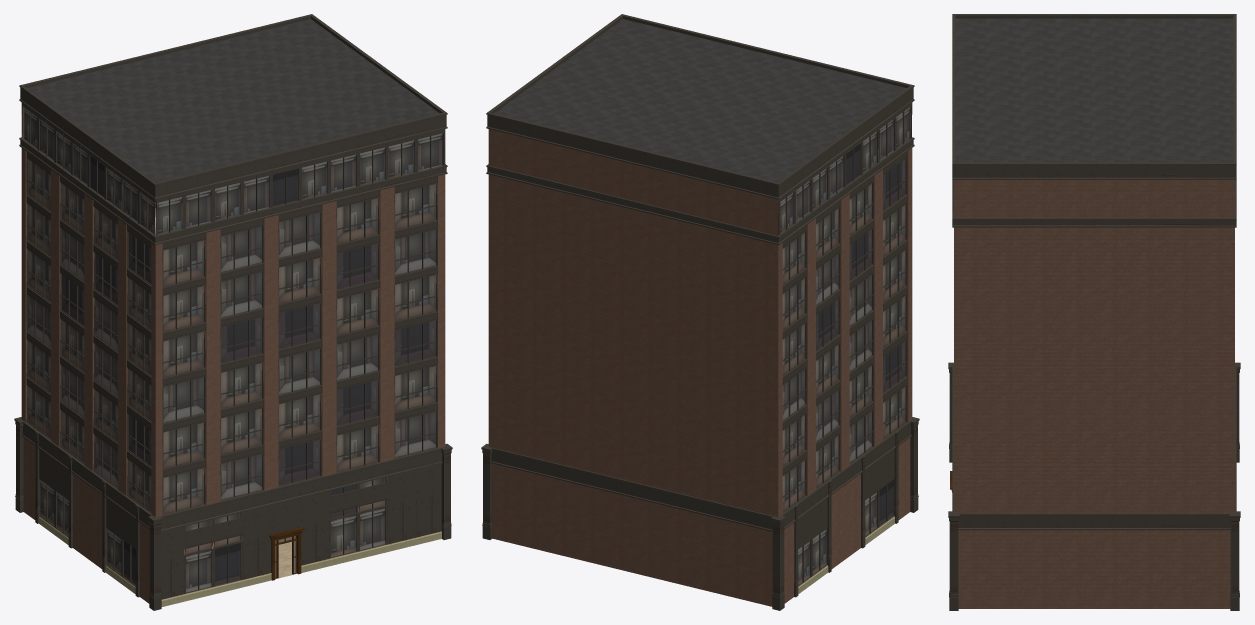
Rendered from building_large_2.glb.
The picture shows the model from 3 angles, left to right: view 1: azimuth 30°, elevation 25°; view 2: azimuth 150°, elevation 25°; view 3: azimuth 270°, elevation 25°; orthographic projection. The views are drawn at different scales.
Parts seen in each view (by area): view 1: Building_Large_2; view 2: Building_Large_2; view 3: Building_Large_2.
Boxes of the visible parts, bbox=[...] form: Building_Large_2: bbox=[14, 14, 452, 610]; Building_Large_2: bbox=[481, 14, 919, 610]; Building_Large_2: bbox=[948, 14, 1240, 610].
Size of the model in its own units: 20.64 by 28 by 16.64.
Materials: 9 (8 with a texture image).
